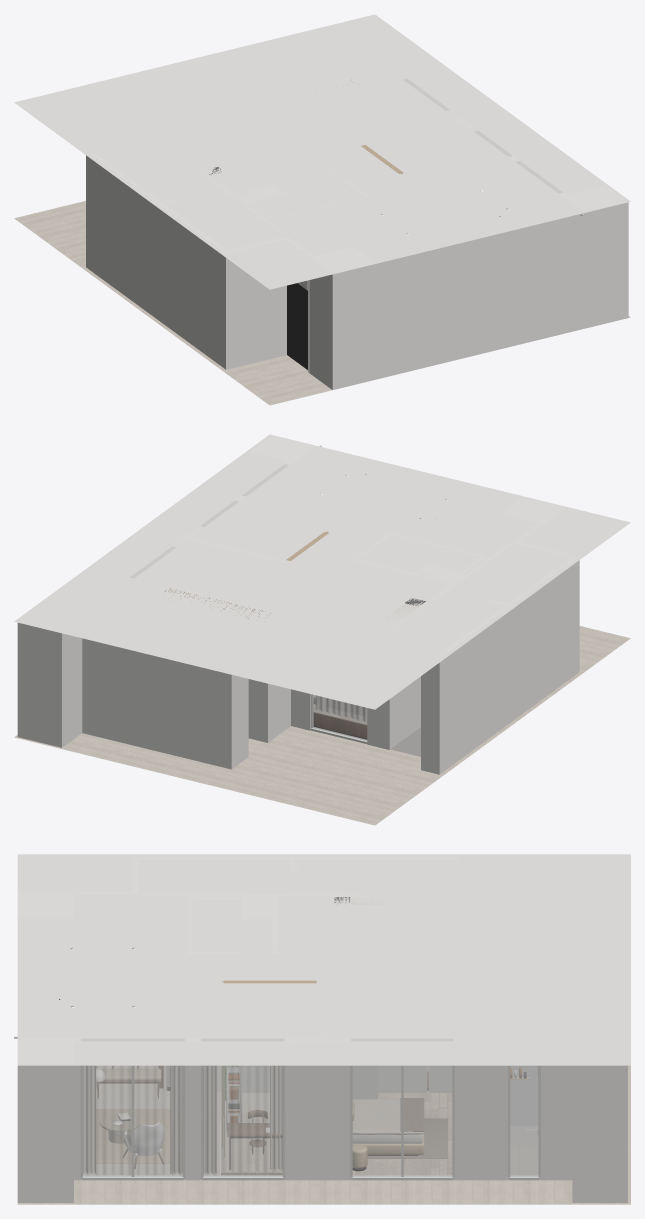
Rendered from apartment_mobile-CQfEXRlH.glb.
3 views of the same model, one above another, from view 1: azimuth 30°, elevation 25°; view 2: azimuth 150°, elevation 25°; view 3: azimuth 270°, elevation 25° (orthographic). The views are drawn at different scales.
Parts seen in each view (by area): view 1: ceiling, wall_38, wall_10, wall_36, floor_tile, wall_37, wall_33, door_entrance, wall_34; view 2: ceiling, floor_tile, wall_10, wall_1, wall_0, wall_9, win_bedB_glass, wall_14, wall_6, wall_2, wall_12, wall_36 (+5 smaller); view 3: ceiling, floor_tile, win_east3_glass, curtain_east_living, win_east1_glass, wall_37, win_east2_glass, curtain_east_studio, wall_17, wall_0, wall_5, wall_4 (+30 smaller).
Part boxes in pixels (box(x1,y1,x2,y2)): ceiling: box(14, 14, 630, 289); wall_38: box(377, 213, 584, 379); wall_10: box(89, 152, 231, 369); wall_36: box(309, 246, 376, 389); floor_tile: box(14, 201, 630, 405); wall_37: box(566, 185, 628, 327); wall_33: box(229, 236, 289, 368); door_entrance: box(287, 283, 307, 369); wall_34: box(558, 192, 589, 328); ceiling: box(14, 434, 630, 709); floor_tile: box(14, 626, 630, 825); wall_10: box(438, 555, 579, 771); wall_1: box(82, 638, 234, 769); wall_0: box(17, 622, 82, 747); wall_9: box(421, 653, 442, 774); win_bedB_glass: box(313, 695, 366, 740); wall_14: box(389, 588, 450, 746); wall_6: box(219, 613, 270, 742); wall_2: box(232, 648, 248, 766); wall_12: box(367, 627, 392, 749); wall_36: box(501, 496, 567, 524); ceiling: box(17, 854, 630, 1065); floor_tile: box(17, 1065, 630, 1204); win_east3_glass: box(83, 1066, 182, 1176); curtain_east_living: box(83, 1066, 182, 1174); win_east1_glass: box(353, 1066, 451, 1176); wall_37: box(17, 1041, 73, 1202); win_east2_glass: box(204, 1066, 282, 1176); curtain_east_studio: box(204, 1066, 282, 1174); wall_17: box(285, 1038, 349, 1180); wall_0: box(572, 1065, 627, 1202); wall_5: box(454, 1039, 507, 1180); wall_4: box(541, 1065, 572, 1180).
Size of the model in its own units: 9.79 by 3 by 12.09.
131 materials, 25 textured.
